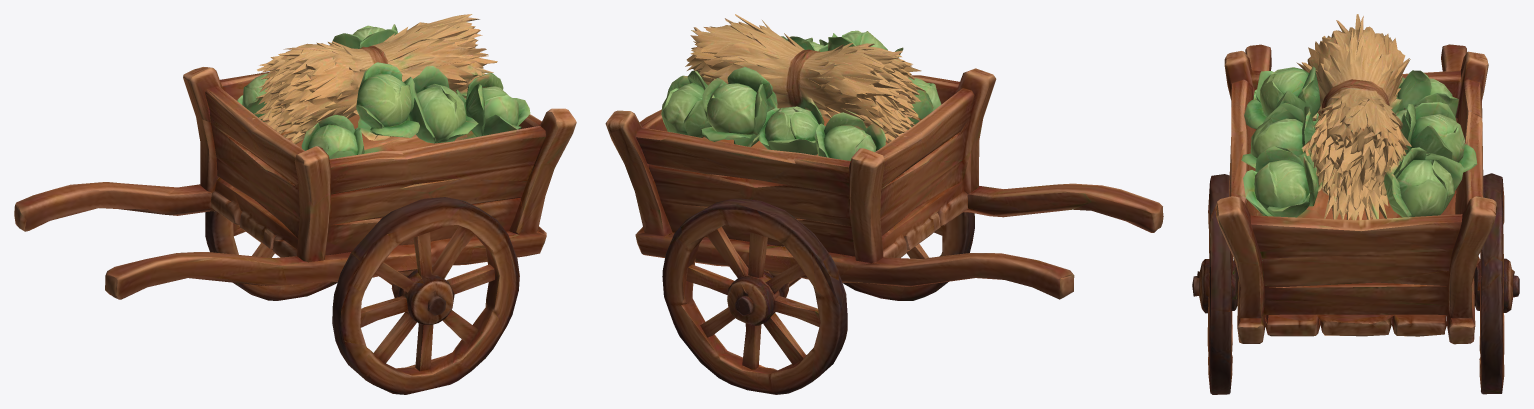
Rendered from cart.glb.
3 renders of one model, left to right at view 1: azimuth 30°, elevation 25°; view 2: azimuth 150°, elevation 25°; view 3: azimuth 270°, elevation 25°, orthographic. The views are drawn at different scales.
Size of the model in its own units: 1.9 by 1.24 by 1.12.
1 material, 1 textured.
